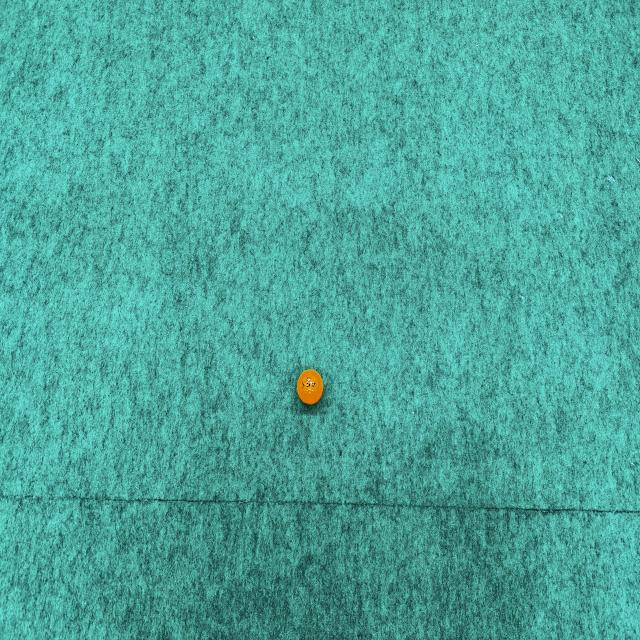ball: (295, 364, 327, 410)
